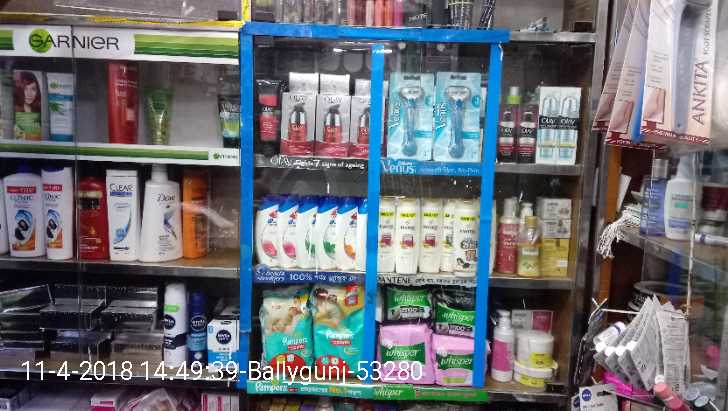venus: (433, 72, 481, 160), (391, 74, 430, 160)
